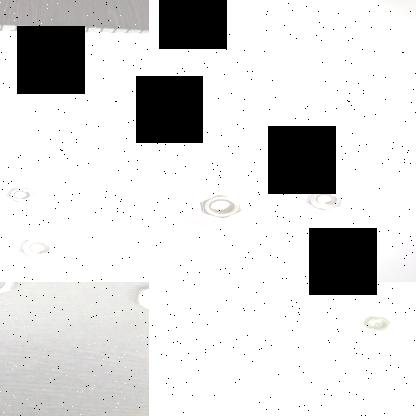NUTS: (13, 238, 60, 261), (199, 194, 243, 218), (120, 284, 149, 320), (303, 188, 346, 212), (354, 314, 393, 334), (1, 186, 38, 204), (289, 137, 323, 155)
